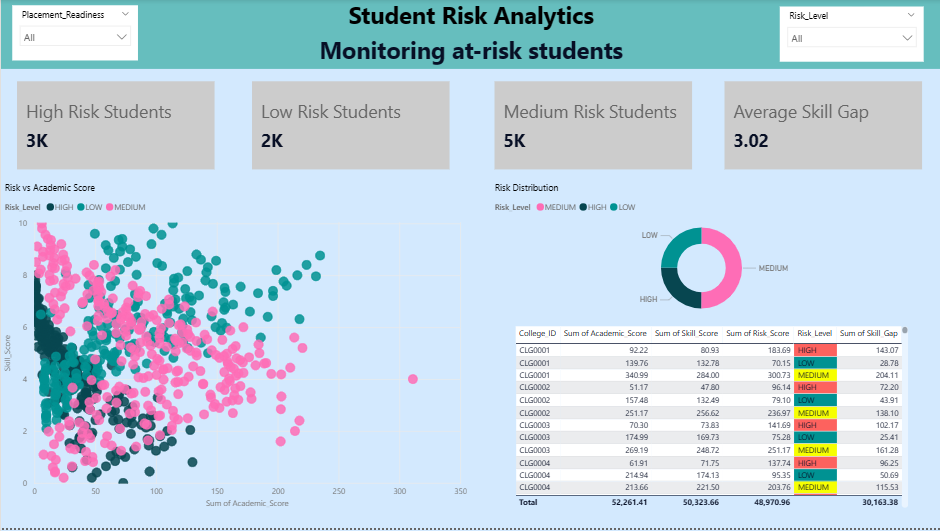

The dashboard page shown, as its layout file describes it:
{"tool":"powerbi","page":{"name":"Student Risk Analytics","canvas":[1280,720],"ordinal":3},"visuals":[{"type":"textbox","title":"Student Risk Analytics","box":[0,0,1280.3,96.1],"z":0},{"type":"cardVisual","fields":{"Data":["cleaned_student_data.High Risk Students"]},"box":[17.8,107,279.9,130.4],"z":1000},{"type":"cardVisual","fields":{"Data":["cleaned_student_data.Low Risk Students"]},"box":[336.2,107,279.9,130.4],"z":2000},{"type":"cardVisual","fields":{"Data":["cleaned_student_data.Average Skill Gap"]},"box":[979.8,107,279.9,130.4],"z":3000},{"type":"cardVisual","fields":{"Data":["cleaned_student_data.Medium Risk Students"]},"box":[666.9,107,279.9,130.4],"z":4000},{"type":"donutChart","title":"Risk Distribution","fields":{"Category":["cleaned_student_data.Risk_Level"],"Y":["cleaned_student_data.Student Count"]},"box":[666.9,248.4,573.6,192.1],"z":5000},{"type":"scatterChart","title":"Risk vs Academic Score","fields":{"X":["Sum(cleaned_student_data.Academic_Score)"],"Y":["cleaned_student_data.Skill_Score"],"Series":["cleaned_student_data.Risk_Level"]},"box":[0,248.4,639.5,448.7],"z":6000},{"type":"tableEx","fields":{"Values":["cleaned_student_data.College_ID","Sum(cleaned_student_data.Academic_Score)","Sum(cleaned_student_data.Skill_Score)","Sum(cleaned_student_data.Risk_Score)","cleaned_student_data.Risk_Level","Sum(cleaned_student_data.Skill_Gap)"]},"box":[694.3,440.5,546.1,256.6],"z":7000},{"type":"slicer","fields":{"Values":["cleaned_student_data.Risk_Level"]},"box":[1060.7,11,196.2,75.5],"z":8000},{"type":"slicer","fields":{"Values":["cleaned_student_data.Placement_Readiness"]},"box":[15.1,8.2,171.5,75.5],"z":9000}]}

Visuals, with their boxes in screenshot pixels (x1, y1, x2, y2), scaled from the page's 1280x720 canvas onto the 940x531 screenshot:
"Student Risk Analytics" textbox: l=0, t=0, r=939, b=71
cardVisual - cleaned_student_data.High Risk Students: l=13, t=79, r=219, b=175
cardVisual - cleaned_student_data.Low Risk Students: l=247, t=79, r=452, b=175
cardVisual - cleaned_student_data.Average Skill Gap: l=720, t=79, r=925, b=175
cardVisual - cleaned_student_data.Medium Risk Students: l=490, t=79, r=695, b=175
"Risk Distribution" donutChart: l=490, t=183, r=911, b=325
"Risk vs Academic Score" scatterChart: l=0, t=183, r=470, b=514
tableEx - cleaned_student_data.College_ID x Sum(cleaned_student_data.Academic_Score): l=510, t=325, r=911, b=514
slicer - cleaned_student_data.Risk_Level: l=779, t=8, r=923, b=64
slicer - cleaned_student_data.Placement_Readiness: l=11, t=6, r=137, b=62
